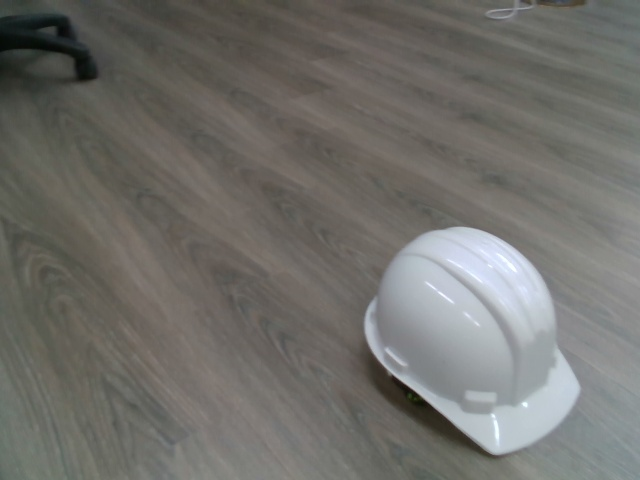helmet: (358, 221, 588, 460)
